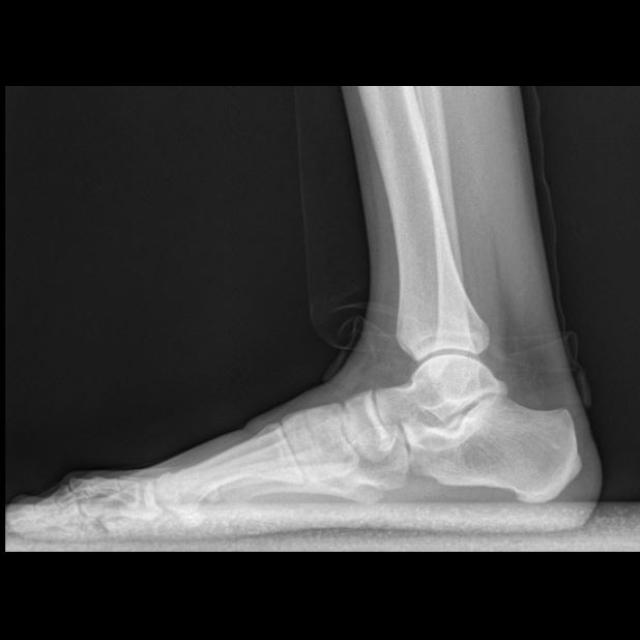a: (403, 394, 583, 506)
b: (344, 390, 397, 463)
c: (152, 422, 307, 511)
